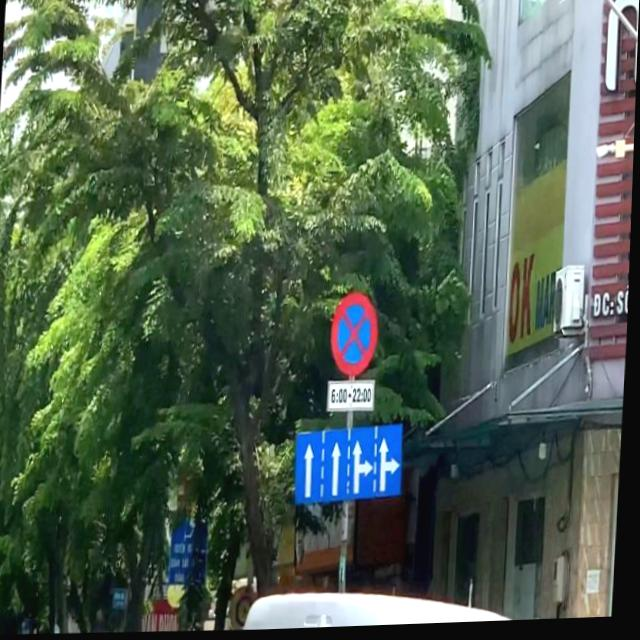Cam dung xe va do xe: (330, 292, 384, 384)
